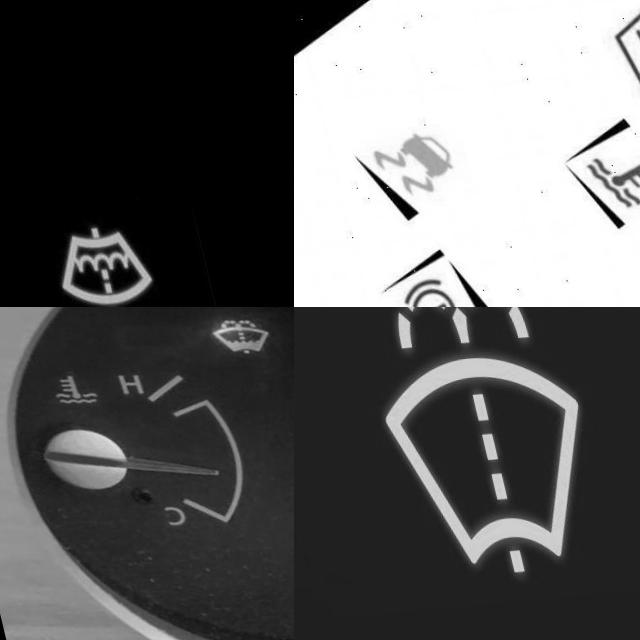High Engine Coolant Temperature: (37, 371, 92, 413)
Washer Fluid: (35, 228, 149, 307)
